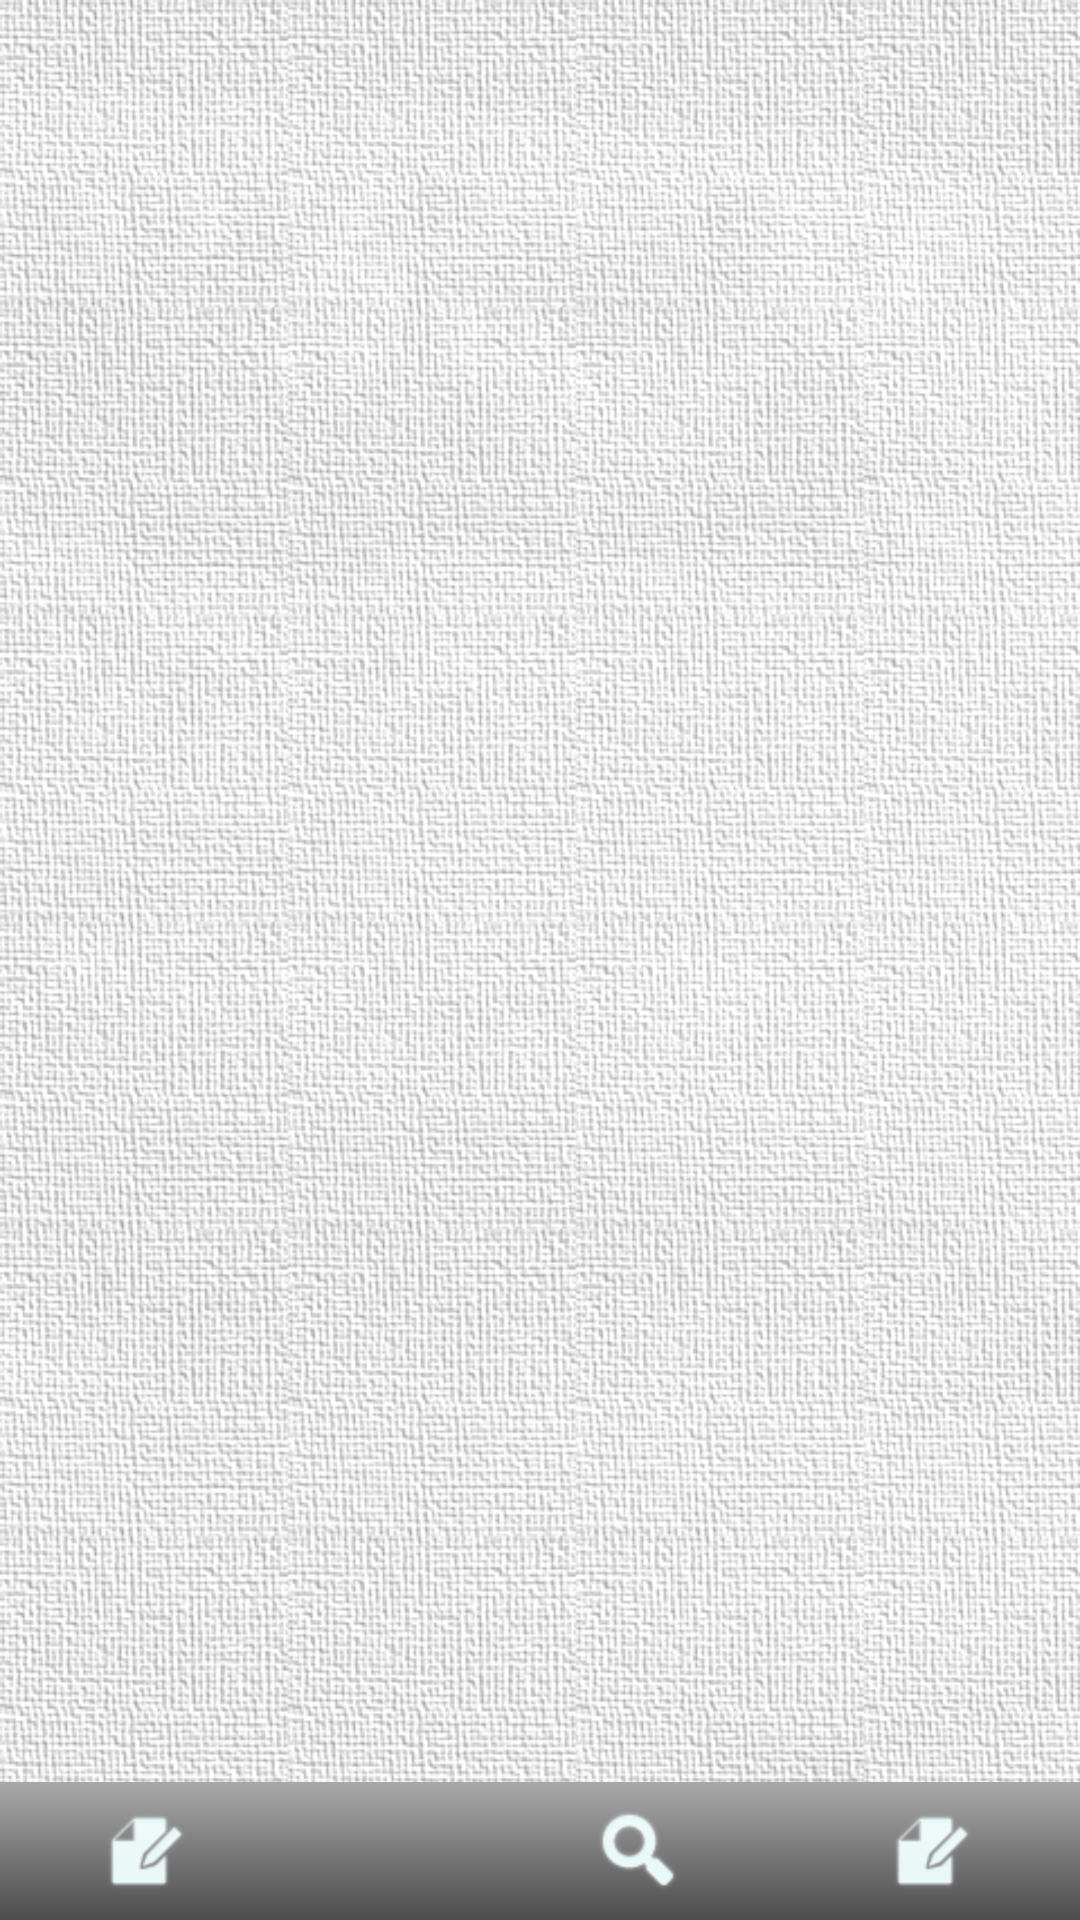

Screen size 1080w x 1920h. Icon name, then its center in pixels as [x,y]:
compose: [147,1851], [933,1851]
search: [639,1851]
